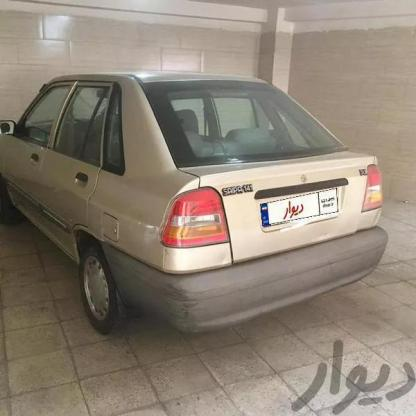Car: (0, 65, 389, 343)
